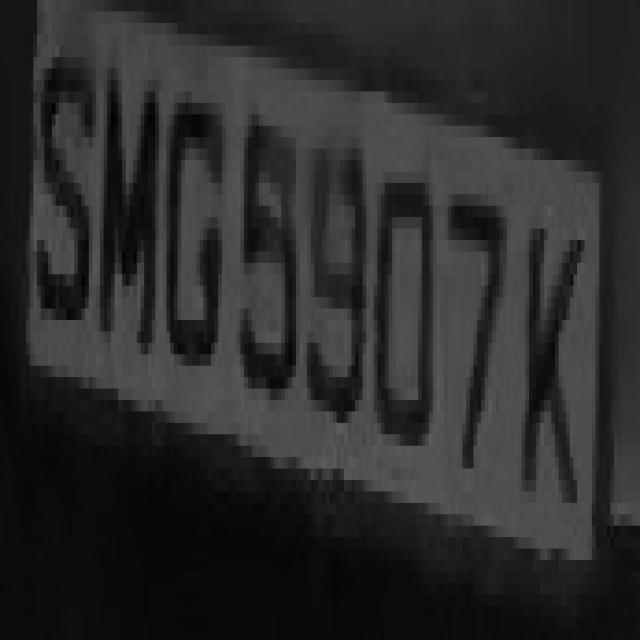0: (355, 114, 437, 492)
5: (222, 92, 303, 457)
7: (429, 126, 511, 491)
9: (300, 114, 370, 514)
G: (159, 46, 222, 400)
K: (511, 148, 603, 548)
M: (92, 34, 166, 366)
S: (29, 0, 100, 366)
